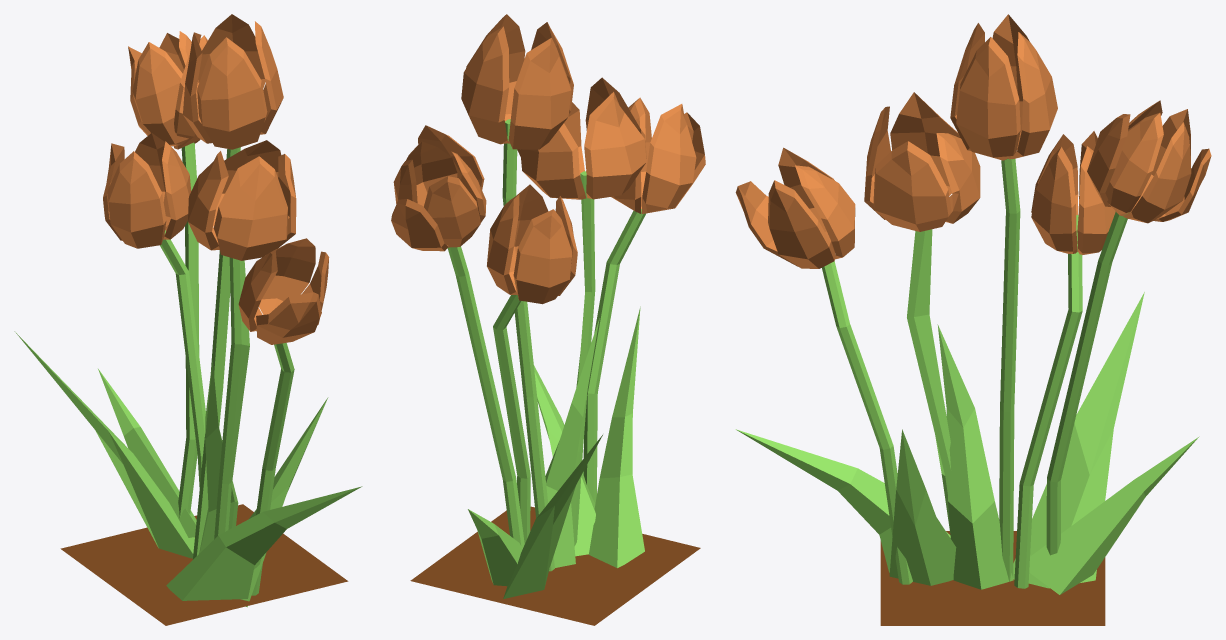
The model's file is tulips.fbx.
3 renders of one model, left to right at view 1: azimuth 30°, elevation 25°; view 2: azimuth 150°, elevation 25°; view 3: azimuth 270°, elevation 25°, orthographic. The views are drawn at different scales.
Visible parts, largest first — view 1: Plane.080; view 2: Plane.080; view 3: Plane.080.
Part boxes in pixels (x1,y1,x2,y2): Plane.080: [14, 14, 362, 625]; Plane.080: [391, 14, 705, 625]; Plane.080: [735, 14, 1211, 625].
Size of the model in its own units: 287 by 702 by 529.
